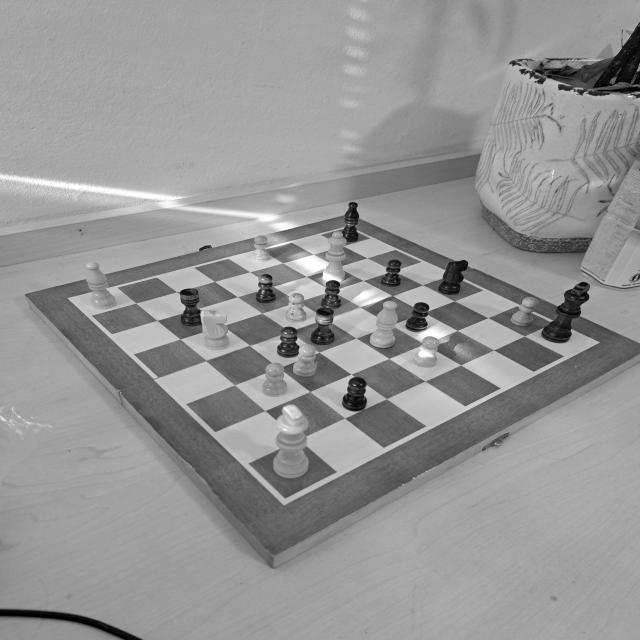chess-table-corners: (271, 488, 300, 508), (62, 291, 84, 307), (340, 222, 360, 233), (584, 337, 602, 347)
